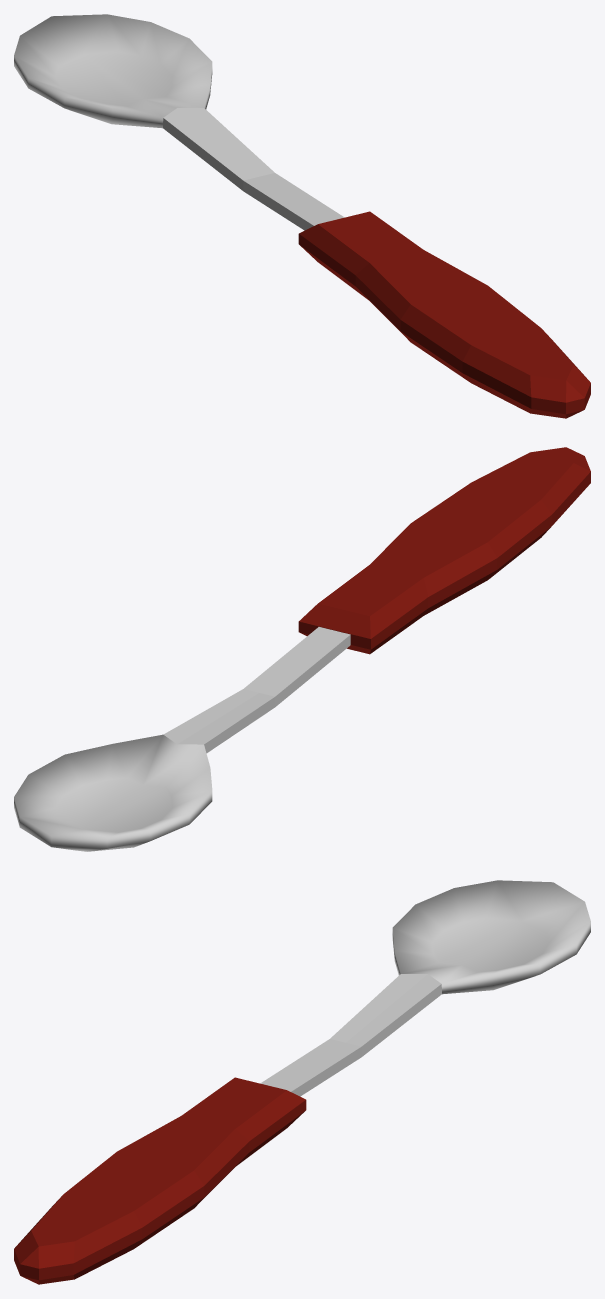
The model's file is spoon.glb.
3 renders of one model, top to bottom at view 1: azimuth 30°, elevation 25°; view 2: azimuth 150°, elevation 25°; view 3: azimuth 330°, elevation 25°, orthographic.
Parts seen in each view (by area): view 1: Spoon (Simple); view 2: Spoon (Simple); view 3: Spoon (Simple).
Part boxes in pixels (x1,y1,x2,y2): Spoon (Simple): (14, 14, 590, 418); Spoon (Simple): (14, 447, 590, 851); Spoon (Simple): (14, 880, 590, 1284).
Bounding box in the file's own units: 0.0403 × 0.0116 × 0.2271.
Materials: 1 (1 with a texture image).
